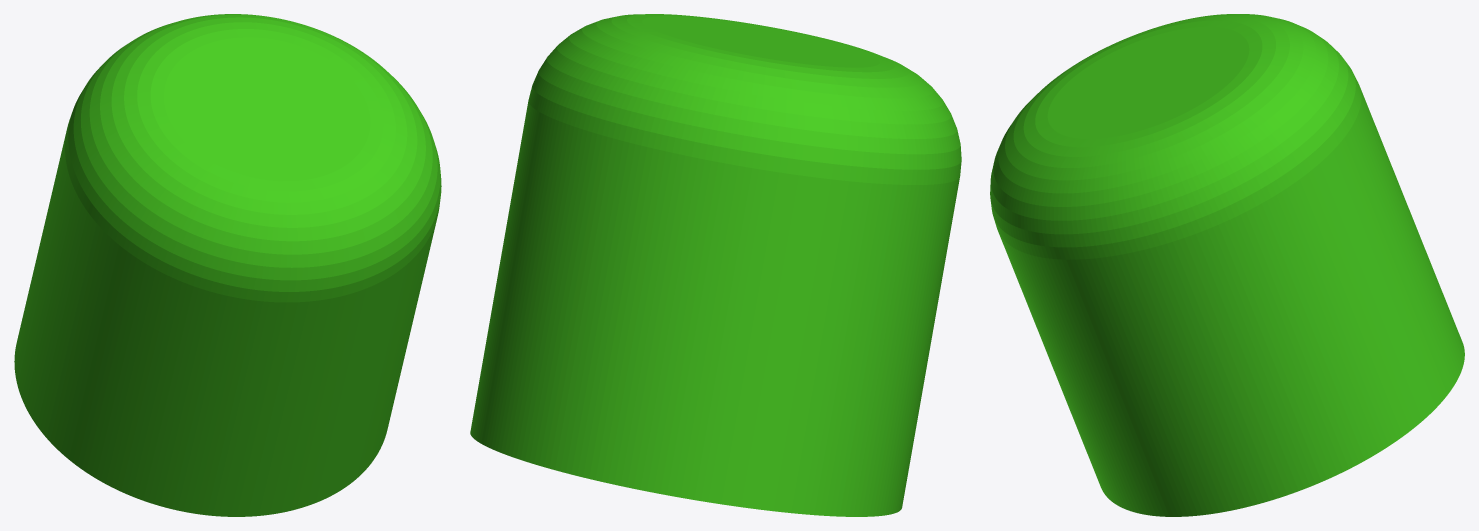
File: Button_Podium3.glb
3 views of the same model, side by side, from view 1: azimuth 30°, elevation 25°; view 2: azimuth 150°, elevation 25°; view 3: azimuth 270°, elevation 25° (orthographic). The views are drawn at different scales.
Parts seen in each view (by area): view 1: Button2; view 2: Button2; view 3: Button2.
Boxes of the visible parts, <box> form: Button2: <box>14,14,441,516</box>; Button2: <box>470,14,961,516</box>; Button2: <box>990,14,1464,516</box>.
Size of the model in its own units: 0.1 by 0.1218 by 0.1218.
